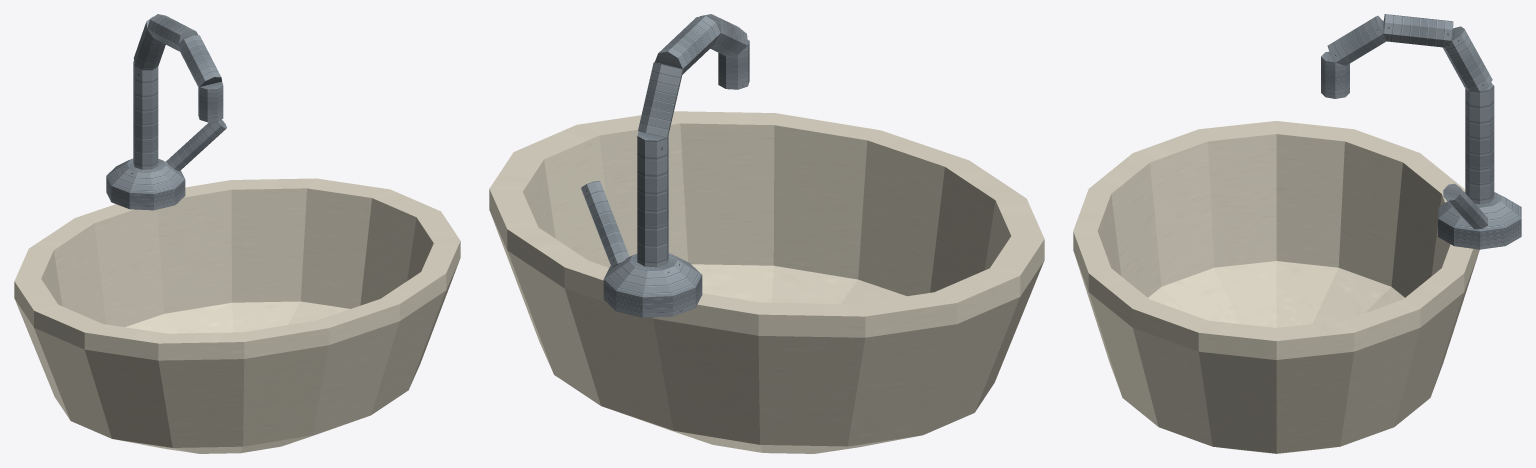
The model's file is MD_53_KitchenSink.fbx.
3 views of the same model, side by side, from view 1: azimuth 30°, elevation 25°; view 2: azimuth 150°, elevation 25°; view 3: azimuth 270°, elevation 25° (orthographic). The views are drawn at different scales.
Visible parts, largest first — view 1: MD_53_KitchenSink_basin, MD_53_KitchenSink_faucet_mount, MD_53_KitchenSink_gooseneck_0, MD_53_KitchenSink_gooseneck_3, MD_53_KitchenSink_mixer_control, MD_53_KitchenSink_gooseneck_2, MD_53_KitchenSink_gooseneck_4, MD_53_KitchenSink_gooseneck_1; view 2: MD_53_KitchenSink_basin, MD_53_KitchenSink_faucet_mount, MD_53_KitchenSink_gooseneck_0, MD_53_KitchenSink_gooseneck_1, MD_53_KitchenSink_gooseneck_2, MD_53_KitchenSink_mixer_control, MD_53_KitchenSink_gooseneck_4, MD_53_KitchenSink_gooseneck_3; view 3: MD_53_KitchenSink_basin, MD_53_KitchenSink_gooseneck_0, MD_53_KitchenSink_faucet_mount, MD_53_KitchenSink_gooseneck_2, MD_53_KitchenSink_gooseneck_1, MD_53_KitchenSink_gooseneck_3, MD_53_KitchenSink_gooseneck_4, MD_53_KitchenSink_mixer_control.
Part boxes in pixels (x1,y1,x2,y2): MD_53_KitchenSink_basin: (14, 178, 460, 453); MD_53_KitchenSink_faucet_mount: (106, 158, 185, 210); MD_53_KitchenSink_gooseneck_0: (133, 61, 158, 169); MD_53_KitchenSink_gooseneck_3: (178, 35, 221, 87); MD_53_KitchenSink_mixer_control: (166, 119, 226, 171); MD_53_KitchenSink_gooseneck_2: (147, 14, 197, 51); MD_53_KitchenSink_gooseneck_4: (198, 81, 223, 122); MD_53_KitchenSink_gooseneck_1: (133, 16, 165, 70); MD_53_KitchenSink_basin: (489, 111, 1044, 453); MD_53_KitchenSink_faucet_mount: (603, 253, 702, 317); MD_53_KitchenSink_gooseneck_0: (637, 131, 668, 267); MD_53_KitchenSink_gooseneck_1: (638, 62, 682, 137); MD_53_KitchenSink_gooseneck_2: (655, 15, 720, 74); MD_53_KitchenSink_mixer_control: (581, 180, 629, 267); MD_53_KitchenSink_gooseneck_4: (718, 39, 749, 89); MD_53_KitchenSink_gooseneck_3: (700, 14, 747, 55); MD_53_KitchenSink_basin: (1073, 121, 1479, 453); MD_53_KitchenSink_gooseneck_0: (1465, 82, 1494, 204); MD_53_KitchenSink_faucet_mount: (1438, 192, 1521, 249); MD_53_KitchenSink_gooseneck_2: (1383, 14, 1453, 47); MD_53_KitchenSink_gooseneck_1: (1442, 26, 1492, 91); MD_53_KitchenSink_gooseneck_3: (1327, 15, 1385, 65); MD_53_KitchenSink_gooseneck_4: (1321, 51, 1349, 98); MD_53_KitchenSink_mixer_control: (1443, 183, 1487, 229).
Bounding box in the file's own units: 0.65 × 0.5319 × 0.5593.
2 materials, 2 textured.
